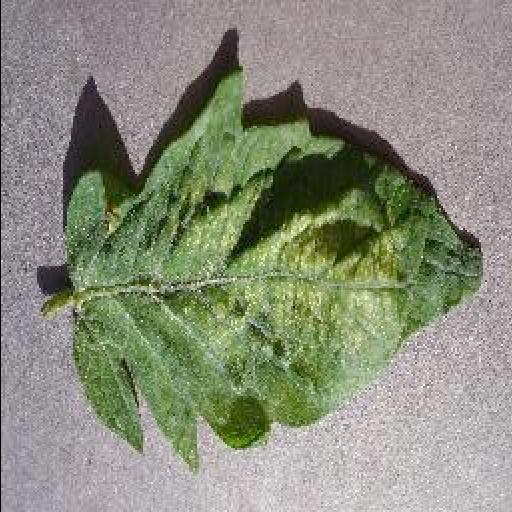disease_tomato: (62, 71, 482, 473)
